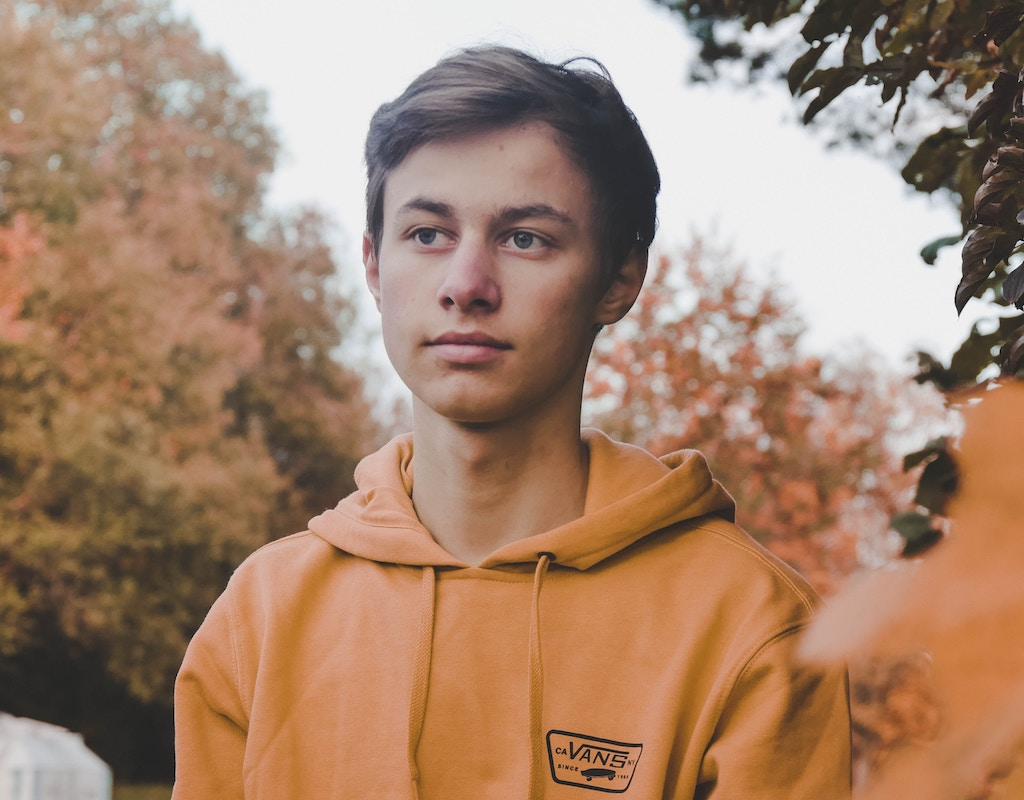BOY: (361, 64, 638, 419)
